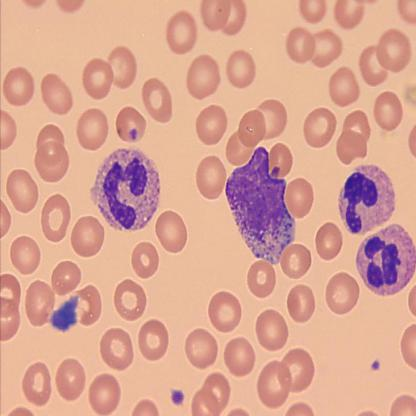Myelocyte: (224, 144, 298, 272)
Segmented neutrophil: (90, 142, 161, 238), (357, 221, 415, 299), (337, 159, 396, 235)
